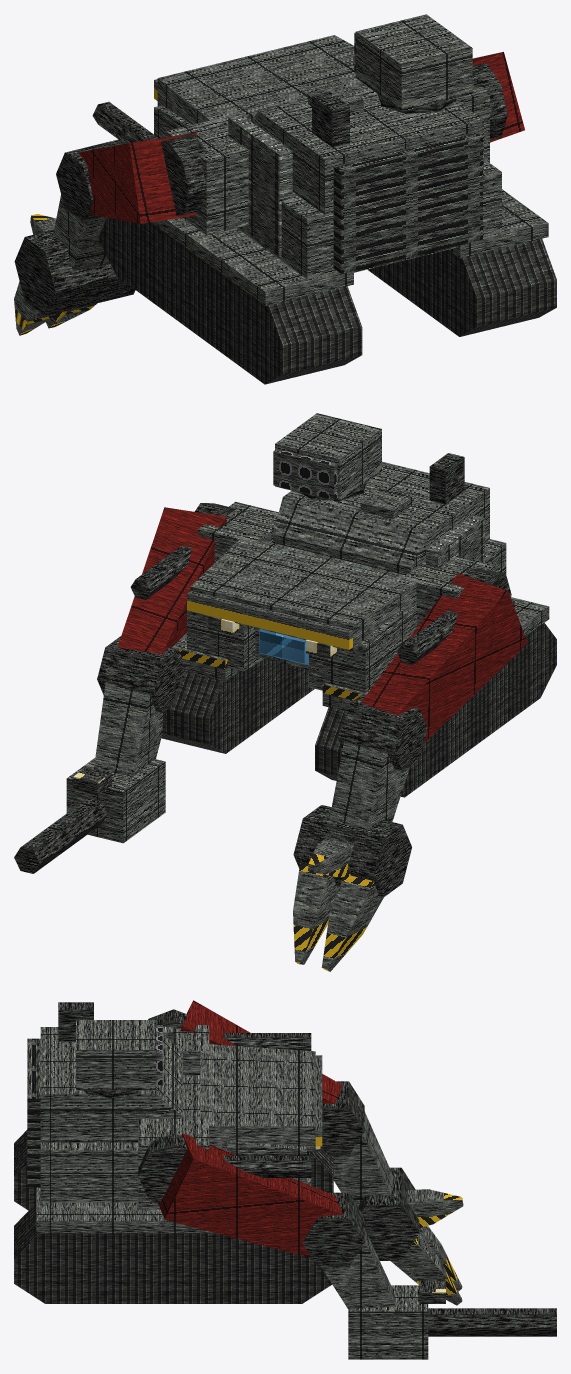
File: honey_badger.glb
3 views of the same model, one above another, from view 1: azimuth 30°, elevation 25°; view 2: azimuth 150°, elevation 25°; view 3: azimuth 270°, elevation 25° (orthographic). The views are drawn at different scales.
Parts seen in each view (by area): view 1: tread, rear_vents, tread.001, brow, deck, turret, skirt, upper_boom, knuckle, hull, pivot_house, ladder (+13 smaller); view 2: brow, deck, upper_boom, tread, tread.001, upper_boom.001, knuckle, turret, forearm.001, forearm, mount, cheek (+22 smaller); view 3: tread.001, upper_boom.001, brow, deck, hull, turret, mount, skirt.001, barrel, knuckle, elbow.001, forearm (+18 smaller).
Boxes of the visible parts, bbox=[...] form: tread: bbox=[98, 217, 362, 384]; rear_vents: bbox=[333, 132, 482, 273]; tread.001: bbox=[367, 238, 556, 336]; brow: bbox=[157, 35, 364, 124]; deck: bbox=[251, 85, 483, 214]; turret: bbox=[355, 14, 472, 111]; skirt: bbox=[151, 217, 353, 305]; upper_boom: bbox=[78, 133, 197, 223]; knuckle: bbox=[14, 230, 135, 315]; hull: bbox=[237, 159, 501, 279]; pivot_house: bbox=[166, 116, 248, 235]; ladder: bbox=[228, 114, 292, 256]; brow: bbox=[190, 539, 416, 651]; deck: bbox=[273, 461, 489, 575]; upper_boom: bbox=[361, 573, 527, 743]; tread: bbox=[315, 623, 556, 797]; tread.001: bbox=[161, 659, 314, 753]; upper_boom.001: bbox=[117, 507, 226, 654]; knuckle: bbox=[293, 805, 411, 896]; turret: bbox=[275, 413, 381, 502]; forearm.001: bbox=[94, 668, 162, 776]; forearm: bbox=[329, 732, 409, 829]; mount: bbox=[66, 758, 165, 843]; cheek: bbox=[309, 606, 407, 692]; tread.001: bbox=[14, 1203, 331, 1303]; upper_boom.001: bbox=[158, 1133, 342, 1257]; brow: bbox=[200, 1044, 315, 1150]; deck: bbox=[40, 1027, 182, 1142]; hull: bbox=[40, 1075, 226, 1202]; turret: bbox=[76, 1020, 155, 1090]; mount: bbox=[348, 1285, 428, 1359]; skirt.001: bbox=[36, 1187, 215, 1233]; barrel: bbox=[428, 1308, 556, 1336]; knuckle: bbox=[358, 1167, 419, 1260]; elbow.001: bbox=[302, 1192, 364, 1267]; forearm: bbox=[333, 1099, 393, 1206].
Size of the model in its own units: 86.92 by 84.5 by 122.
12 materials, 12 textured.
